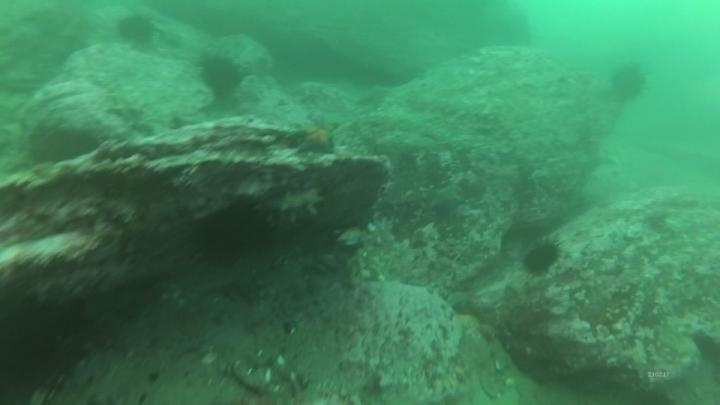echinus: (0, 288, 89, 402), (191, 196, 274, 266), (24, 121, 100, 169), (197, 52, 244, 99), (520, 237, 563, 278), (608, 61, 649, 104), (114, 12, 158, 50)
holothurian: (259, 182, 328, 227), (104, 80, 156, 137)
starfish: (293, 120, 339, 157), (426, 180, 467, 218)
